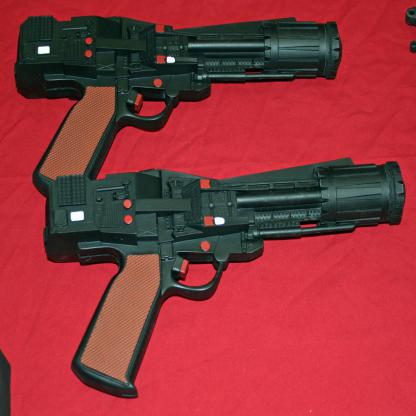Handgun: (42, 157, 406, 398), (13, 15, 342, 197)
